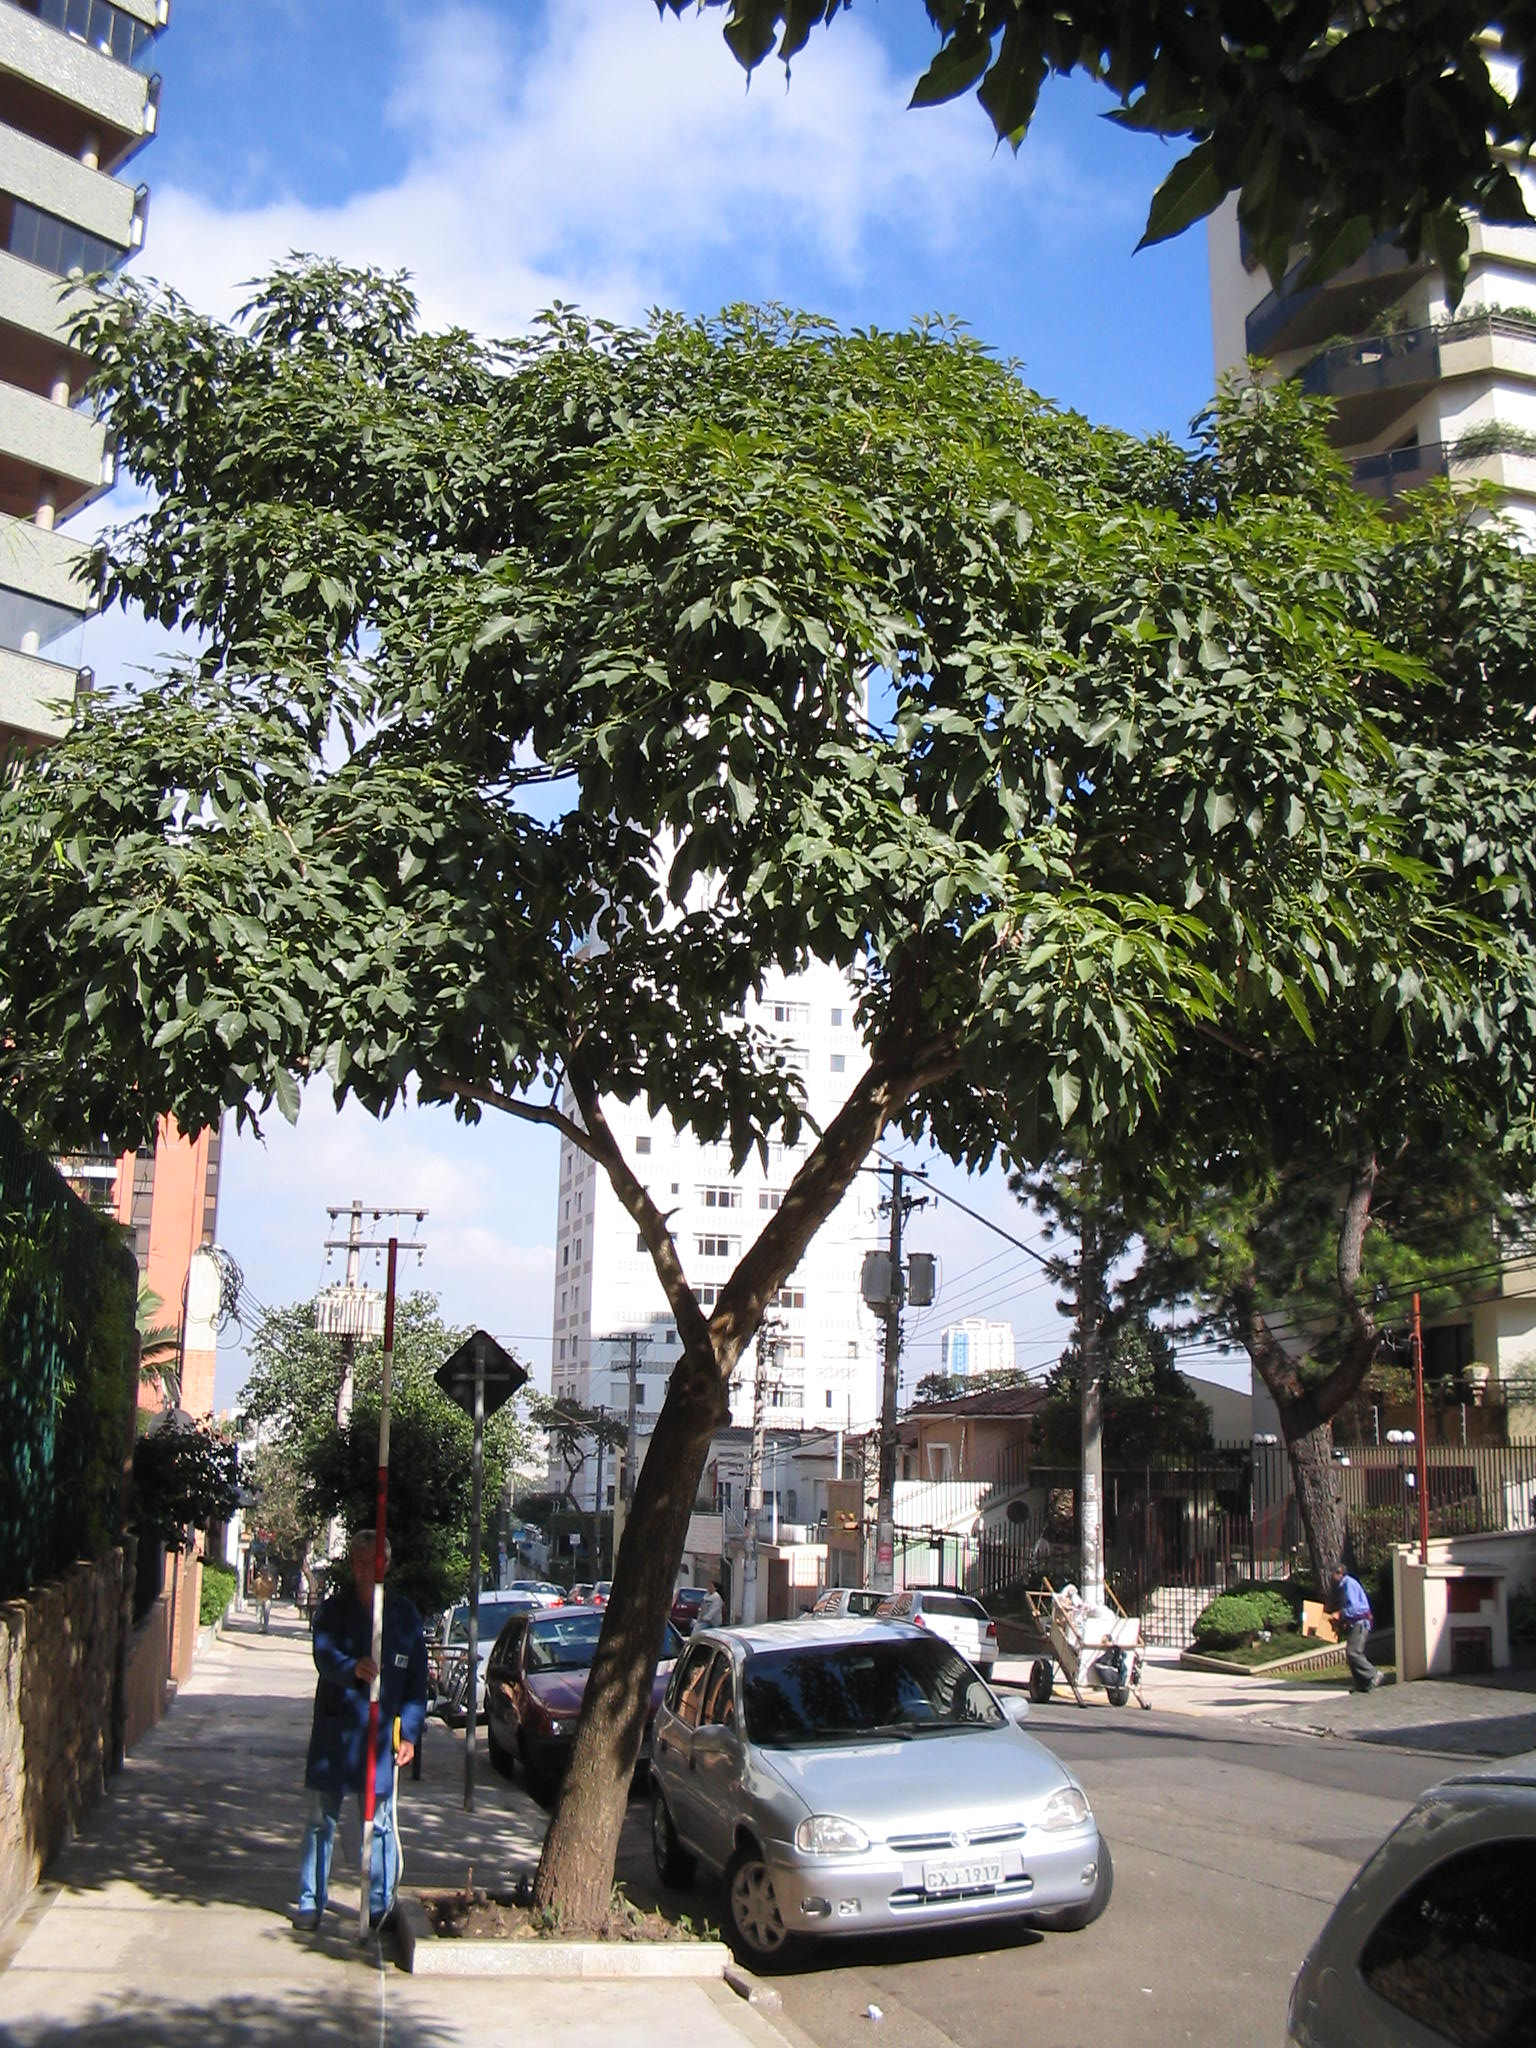crown: (15, 253, 1465, 1224)
stem: (515, 1340, 770, 1940), (1244, 1416, 1386, 1640)
stick: (345, 1237, 424, 1950)
tree: (6, 247, 1470, 1946)
